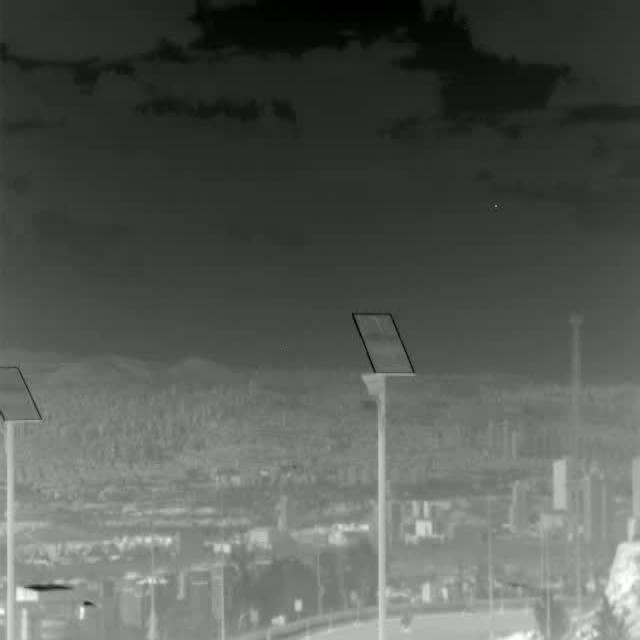Motorcycle: (398, 606, 414, 634)
